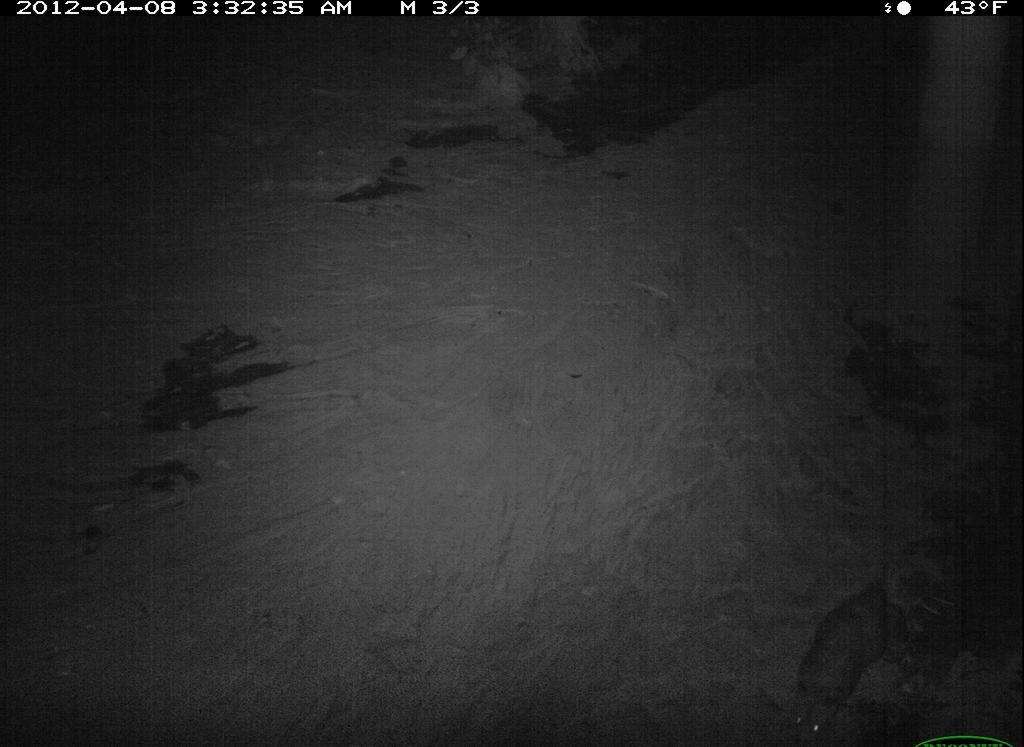opossum: (769, 547, 936, 740)
